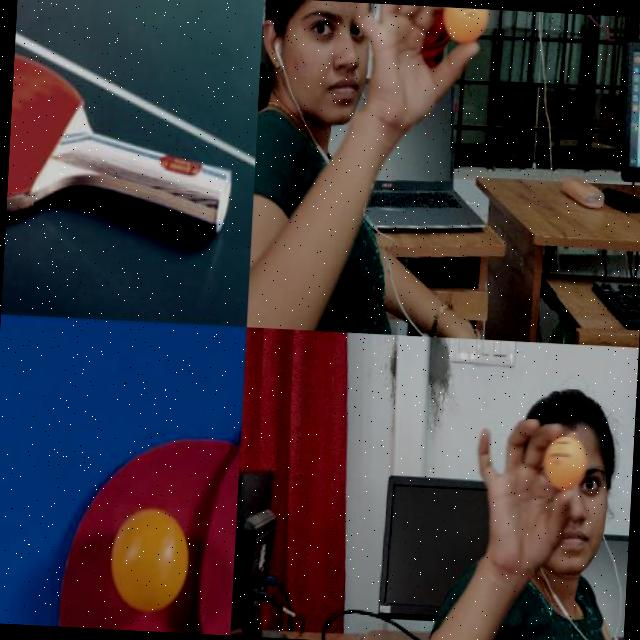ping-pong-ball: (109, 504, 190, 612), (540, 435, 584, 489), (440, 6, 486, 41)
